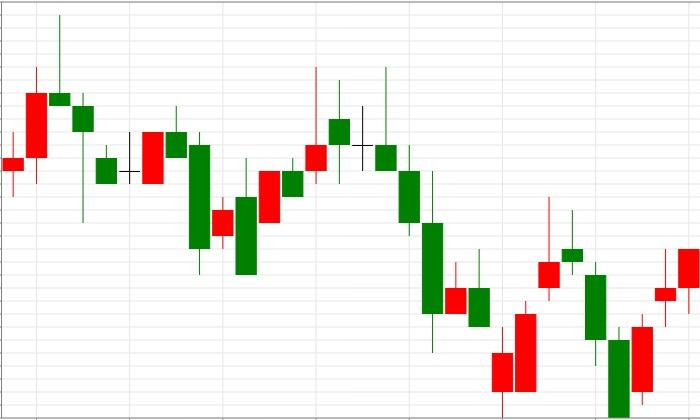evening_star_fall: (491, 197, 606, 419)
three_black_crows_fall: (259, 66, 443, 354)
